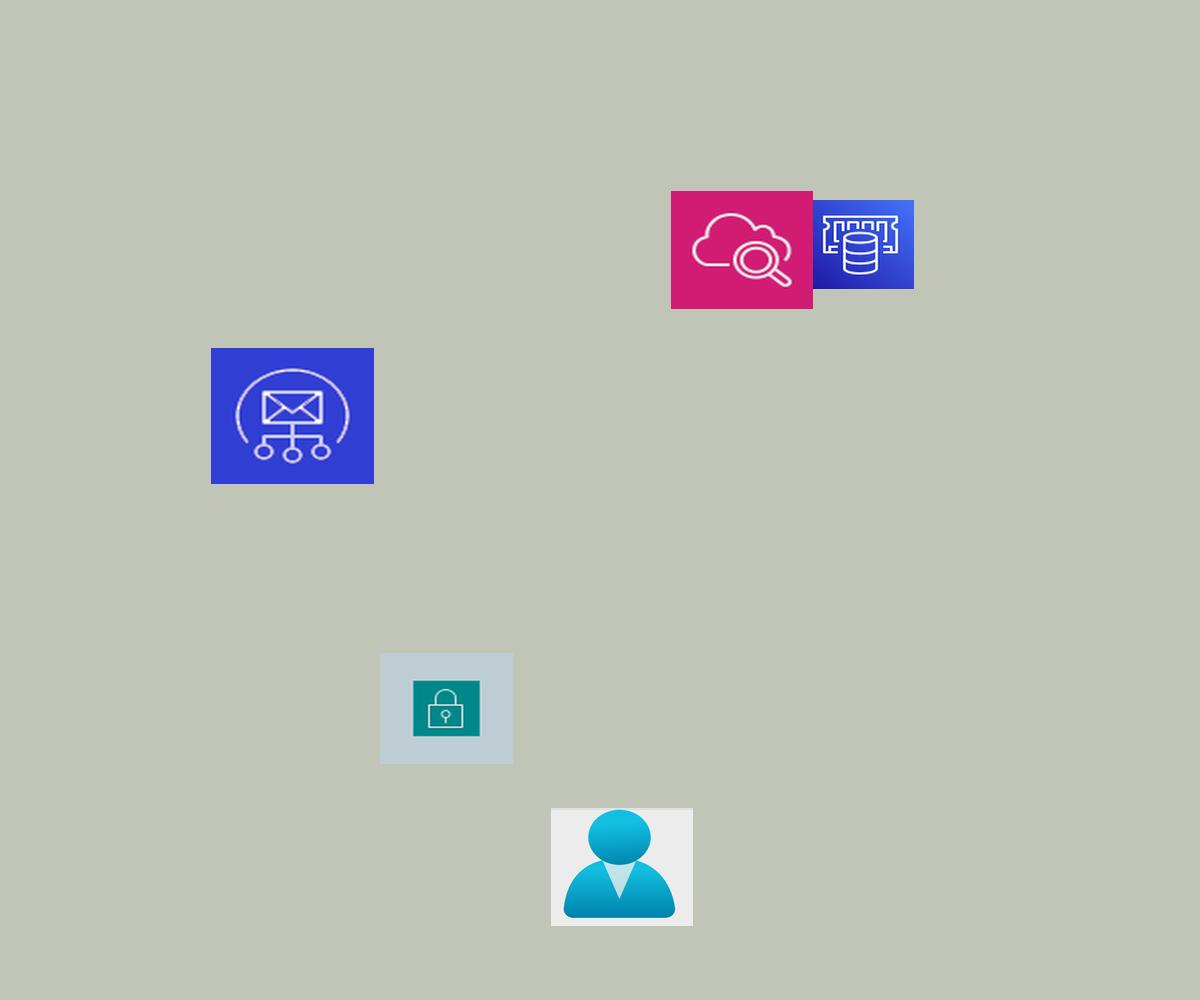AWS-CloudWatch: (671, 191, 813, 309)
AWS-ElastiCache: (807, 200, 914, 289)
AWS-Private-subnet: (380, 653, 513, 764)
AWS-Simple-Email-Service: (211, 348, 374, 484)
Azure_users: (551, 808, 693, 926)
